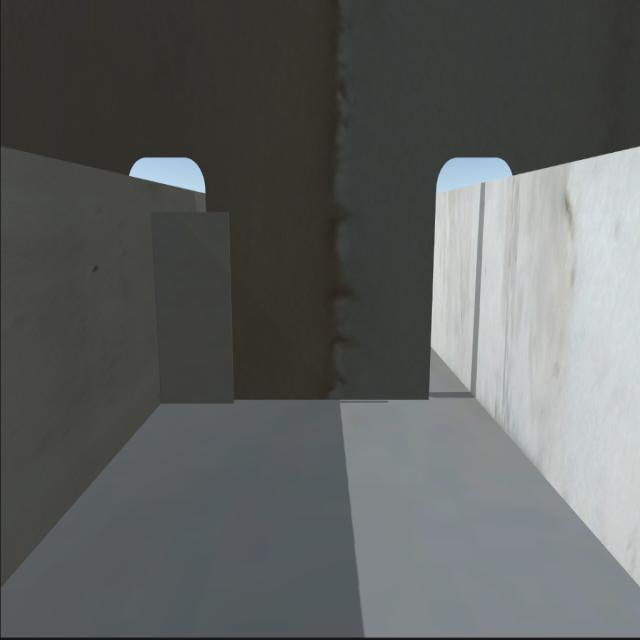fillet_yong_jeop_jang: (162, 391, 430, 405)
longi_yong_jeop_jang: (148, 217, 165, 403)
plate_CP01: (160, 213, 227, 400)
